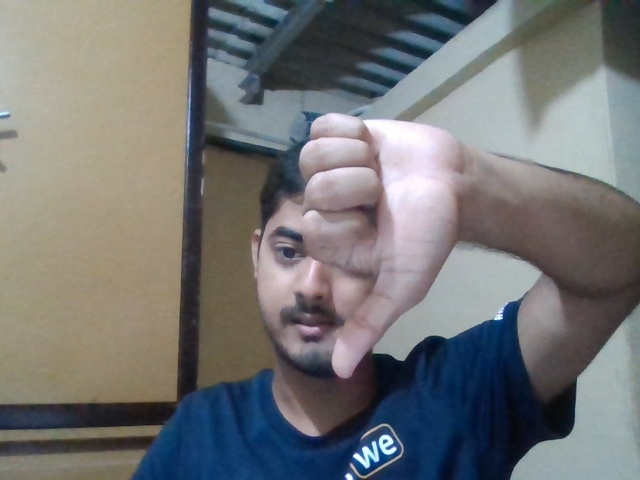ThumbsDown: (298, 114, 462, 380)
